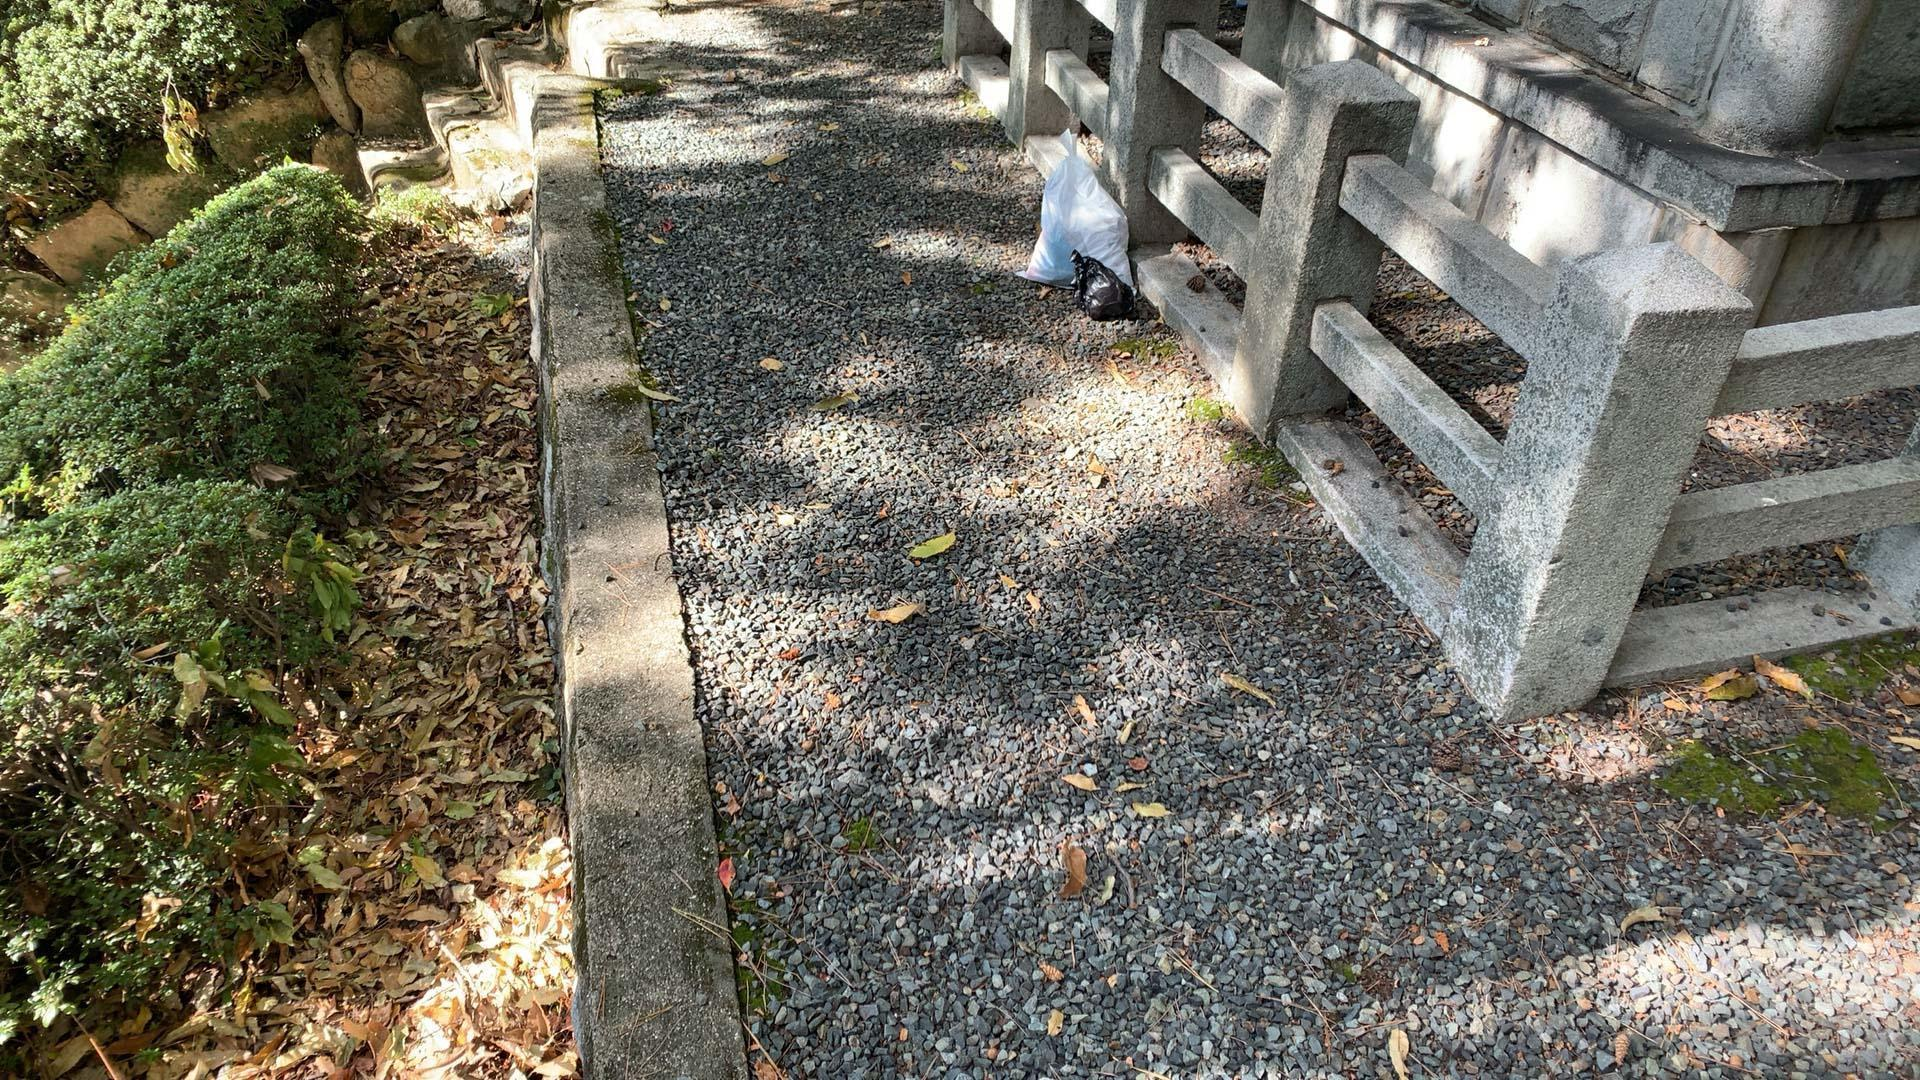black_bag: (1061, 243, 1146, 322)
white_bag: (1009, 124, 1140, 291)
